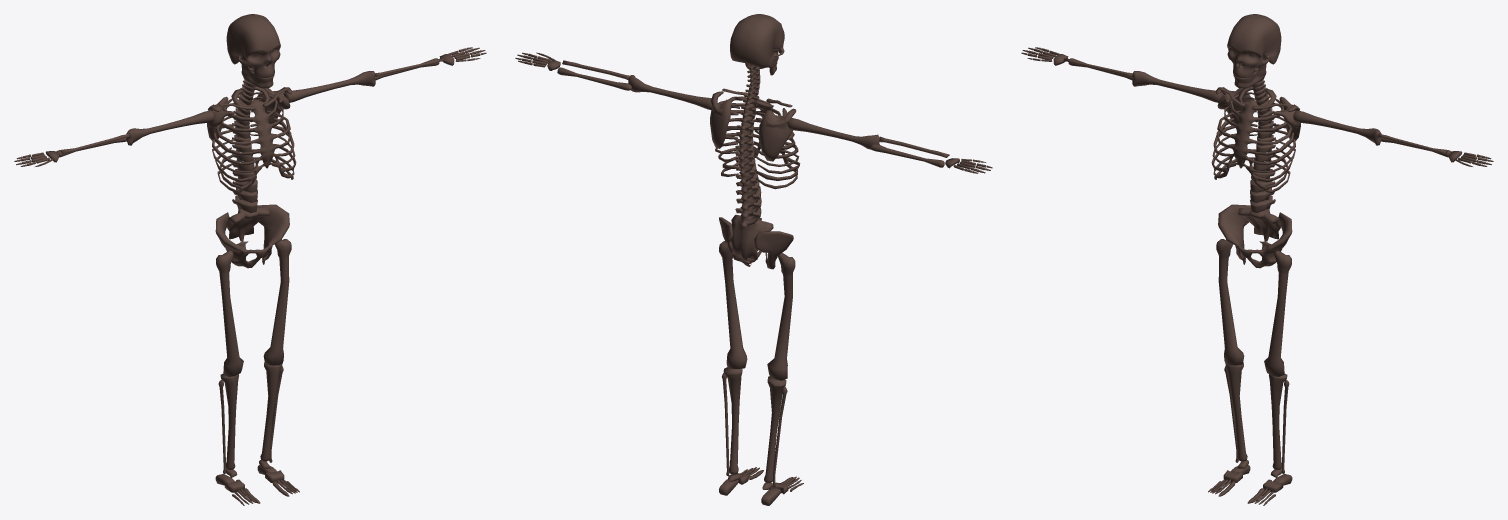
File: SkeletonHP.FBX
The picture shows the model from 3 angles, left to right: view 1: azimuth 30°, elevation 25°; view 2: azimuth 150°, elevation 25°; view 3: azimuth 330°, elevation 25°; orthographic projection.
Visible parts, largest first — view 1: SkeletonHP; view 2: SkeletonHP; view 3: SkeletonHP.
Part boxes in pixels (<box>): SkeletonHP: <box>14,14,486,505</box>; SkeletonHP: <box>515,14,992,505</box>; SkeletonHP: <box>1021,14,1493,505</box>.
Size of the model in its own units: 1.93 by 1.84 by 0.2668.
